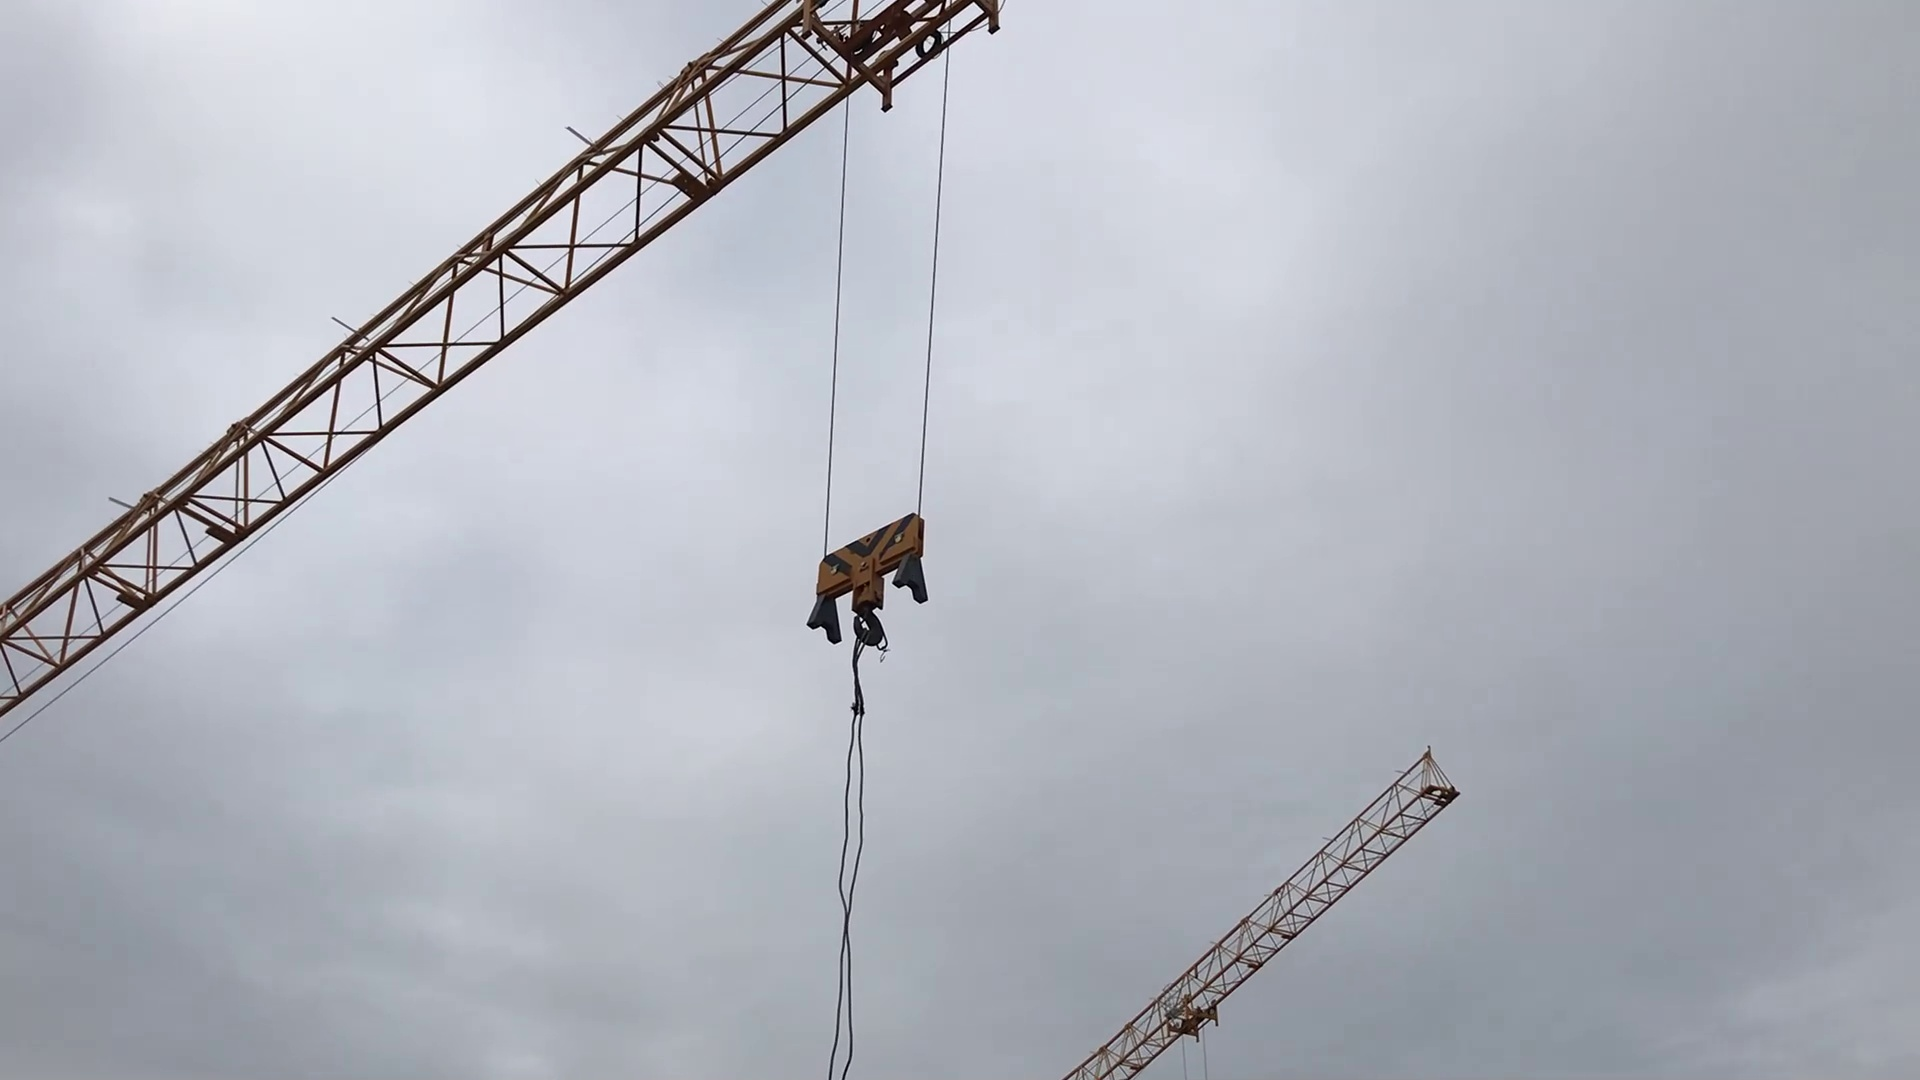hook: (803, 500, 944, 657)
